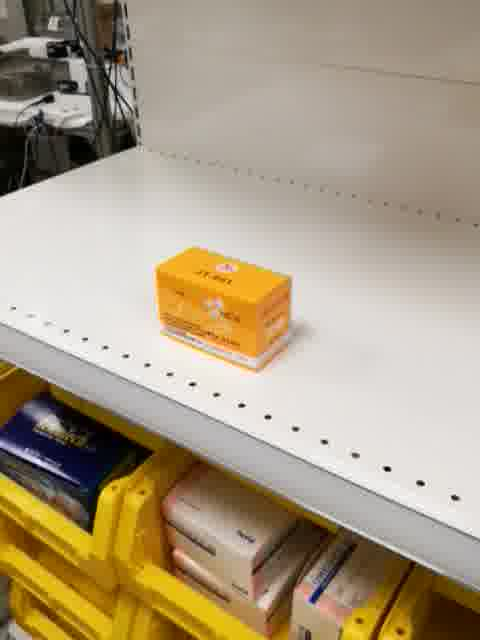jasminetea: (155, 244, 293, 374)
